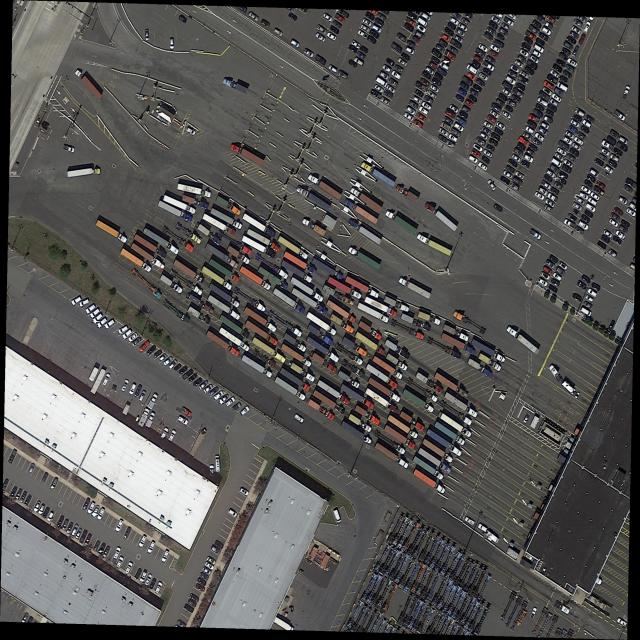large-vehicle: (547, 361, 582, 402), (290, 286, 330, 318), (423, 200, 460, 234), (141, 226, 181, 257), (294, 183, 333, 214), (505, 323, 541, 356), (250, 335, 288, 366), (306, 171, 344, 202), (129, 241, 167, 272), (416, 446, 454, 476), (442, 390, 480, 420), (425, 428, 463, 458), (342, 196, 380, 226), (289, 275, 326, 305), (433, 371, 470, 401), (359, 160, 397, 189), (349, 184, 384, 215), (72, 66, 103, 101), (305, 335, 341, 365), (437, 410, 473, 440), (242, 305, 279, 334), (374, 441, 411, 470), (205, 329, 242, 358), (339, 382, 376, 411), (245, 227, 283, 255), (346, 218, 384, 246), (244, 319, 280, 348), (311, 388, 347, 417), (206, 294, 242, 323), (204, 242, 240, 271), (364, 386, 400, 415), (315, 379, 352, 407), (228, 141, 266, 168), (439, 330, 477, 357), (131, 268, 163, 300), (272, 286, 307, 315), (172, 257, 207, 286), (238, 264, 273, 293), (326, 275, 363, 302), (470, 338, 507, 365), (415, 231, 453, 257), (343, 274, 381, 300), (119, 246, 153, 275), (200, 264, 234, 293), (169, 268, 203, 297), (279, 258, 314, 286), (411, 455, 446, 483), (412, 468, 447, 496), (273, 375, 308, 403), (279, 341, 314, 369), (217, 326, 252, 354), (365, 363, 400, 391), (367, 376, 402, 404), (384, 208, 419, 236), (282, 250, 318, 277), (133, 233, 169, 260), (241, 212, 277, 239), (202, 212, 238, 239), (347, 245, 383, 272), (267, 310, 303, 337), (383, 423, 417, 451), (256, 264, 290, 292), (276, 234, 310, 262), (208, 282, 242, 310), (157, 199, 195, 224), (310, 256, 345, 283), (94, 218, 129, 245), (254, 253, 289, 280), (241, 234, 277, 260), (305, 310, 338, 338), (421, 437, 454, 465), (278, 366, 312, 393), (218, 313, 252, 340), (207, 257, 241, 284), (402, 388, 436, 415), (371, 354, 405, 381), (386, 413, 420, 440), (161, 226, 195, 253), (232, 286, 266, 313), (339, 420, 374, 446), (209, 206, 244, 232), (217, 230, 252, 256), (397, 276, 433, 301), (354, 330, 386, 358), (433, 420, 466, 447), (240, 354, 274, 380), (439, 400, 473, 426), (452, 310, 487, 335), (325, 299, 358, 325), (193, 220, 223, 248), (414, 370, 446, 396), (374, 430, 406, 456), (363, 295, 399, 318), (162, 193, 197, 216), (356, 302, 391, 325), (305, 397, 337, 422), (406, 378, 438, 403), (286, 359, 317, 384), (308, 350, 339, 375), (185, 291, 216, 316), (427, 337, 462, 359), (390, 319, 425, 341), (214, 192, 243, 218), (399, 312, 433, 334), (322, 284, 354, 307), (176, 181, 214, 200), (306, 323, 335, 347), (328, 312, 357, 336), (341, 335, 370, 359), (383, 337, 412, 361), (334, 343, 364, 366), (466, 356, 494, 380), (163, 300, 191, 324), (353, 404, 382, 427), (398, 410, 427, 433), (174, 222, 203, 245), (158, 272, 185, 296), (282, 331, 308, 355), (225, 244, 252, 267), (357, 319, 384, 342), (394, 182, 421, 205), (476, 351, 504, 373), (441, 323, 471, 343), (381, 294, 411, 314), (336, 368, 362, 391), (186, 304, 213, 326), (347, 412, 374, 434), (300, 217, 328, 238), (221, 76, 250, 96), (180, 193, 210, 211), (385, 352, 410, 372), (341, 359, 366, 379), (252, 349, 276, 369), (415, 310, 442, 327), (66, 167, 102, 179), (517, 135, 531, 149), (549, 156, 563, 169), (449, 37, 463, 50), (375, 76, 388, 89), (466, 63, 479, 76), (578, 219, 590, 232), (563, 217, 576, 229), (557, 140, 570, 152), (580, 306, 593, 318), (417, 16, 429, 28), (557, 81, 569, 93), (333, 508, 342, 524), (591, 575, 603, 585), (214, 455, 221, 472), (294, 414, 304, 424)
small-vehicle: (137, 407, 151, 428), (144, 411, 156, 429), (146, 392, 158, 410), (538, 89, 552, 103), (482, 59, 496, 73), (592, 184, 606, 198), (601, 138, 615, 152), (615, 140, 629, 154), (138, 339, 151, 354), (613, 108, 626, 123), (390, 41, 404, 54), (527, 112, 541, 125), (532, 42, 546, 55), (489, 102, 503, 115), (512, 86, 525, 100), (517, 74, 531, 87), (524, 29, 538, 42), (529, 228, 543, 241), (444, 107, 457, 121), (444, 48, 457, 62), (7, 449, 18, 465), (101, 372, 112, 388), (181, 368, 194, 381), (88, 307, 101, 320), (536, 95, 549, 108), (533, 130, 546, 143), (523, 64, 536, 77), (526, 59, 539, 72), (504, 74, 517, 87), (503, 15, 516, 28), (415, 80, 428, 93), (248, 10, 260, 24), (546, 72, 558, 86), (122, 525, 133, 540), (114, 518, 125, 533), (133, 383, 143, 399), (371, 22, 383, 35), (356, 28, 369, 40), (84, 303, 97, 315), (78, 297, 91, 309), (70, 295, 83, 307), (532, 107, 544, 120), (555, 56, 567, 69), (506, 97, 518, 110), (528, 53, 541, 65), (461, 75, 474, 87), (475, 46, 487, 59), (539, 269, 551, 282), (455, 115, 467, 128), (421, 68, 433, 81), (557, 259, 569, 272), (580, 184, 593, 196), (576, 279, 588, 292), (593, 156, 606, 168), (612, 146, 625, 158), (79, 529, 89, 544), (146, 540, 156, 555), (96, 507, 106, 522), (120, 378, 130, 393), (218, 393, 230, 405), (239, 405, 251, 417), (322, 11, 334, 23), (453, 121, 465, 133), (415, 22, 427, 34), (315, 54, 327, 66), (337, 69, 349, 81), (369, 28, 381, 40), (370, 88, 382, 100), (104, 318, 116, 330), (96, 317, 108, 329), (92, 313, 104, 325), (121, 328, 133, 340), (127, 331, 139, 343), (566, 34, 578, 46), (499, 174, 511, 186), (512, 175, 524, 187), (563, 40, 575, 52), (529, 24, 541, 36), (540, 25, 552, 37), (542, 85, 554, 97), (543, 78, 555, 90), (552, 62, 564, 74), (522, 152, 534, 164), (540, 179, 552, 191), (616, 616, 628, 628), (467, 153, 479, 165), (475, 135, 487, 147), (501, 109, 513, 121), (501, 79, 513, 91), (507, 68, 519, 80), (520, 41, 532, 53), (477, 160, 489, 172), (475, 76, 487, 88), (478, 71, 490, 83), (473, 52, 485, 64), (537, 276, 549, 288), (542, 265, 554, 277), (464, 515, 476, 527), (431, 47, 443, 59), (443, 25, 455, 37), (458, 21, 470, 33), (431, 76, 443, 88), (488, 19, 500, 31), (436, 66, 448, 78), (572, 200, 584, 212), (585, 202, 597, 214), (583, 178, 595, 190), (568, 147, 580, 159), (555, 146, 567, 158), (596, 239, 608, 251), (622, 84, 631, 100), (609, 152, 621, 164), (607, 158, 619, 170), (146, 344, 157, 357), (404, 16, 417, 27), (315, 31, 326, 44), (522, 131, 535, 142), (489, 108, 500, 121), (510, 93, 521, 106), (508, 63, 521, 74), (548, 252, 559, 265), (478, 41, 489, 54), (493, 38, 506, 49), (550, 276, 561, 289), (580, 212, 591, 225), (567, 211, 578, 224), (584, 207, 595, 220), (548, 282, 559, 295), (70, 523, 80, 537), (56, 514, 66, 528), (137, 535, 147, 549), (154, 581, 164, 595), (160, 550, 170, 564), (115, 555, 125, 569), (112, 546, 122, 560), (86, 501, 96, 515), (62, 144, 76, 154), (49, 477, 59, 491), (144, 572, 153, 587), (91, 504, 100, 519), (334, 12, 345, 24), (181, 406, 192, 418), (177, 415, 189, 426), (163, 355, 174, 367), (225, 395, 236, 407), (195, 582, 206, 594), (316, 24, 328, 35), (391, 69, 403, 80), (408, 99, 420, 110), (421, 101, 433, 112), (440, 120, 451, 132), (448, 132, 459, 144), (403, 110, 415, 121), (383, 88, 395, 99), (385, 84, 397, 95), (373, 83, 385, 94), (366, 34, 377, 46), (414, 29, 425, 41), (527, 118, 538, 130), (513, 146, 524, 158), (507, 158, 519, 169), (506, 163, 517, 175), (544, 20, 555, 32), (531, 19, 543, 30), (549, 67, 560, 79), (515, 169, 526, 181), (534, 190, 546, 201), (532, 137, 543, 149), (554, 86, 565, 98), (535, 36, 546, 48), (471, 147, 482, 159), (472, 142, 484, 153), (479, 130, 490, 142), (482, 119, 494, 130), (486, 113, 497, 125), (493, 126, 505, 137), (496, 120, 507, 132), (490, 131, 501, 143), (485, 142, 496, 154), (513, 59, 525, 70), (498, 91, 509, 103), (501, 87, 513, 98), (523, 35, 535, 46), (553, 180, 565, 191), (468, 92, 479, 104), (469, 86, 480, 98), (459, 80, 470, 92), (471, 58, 482, 70), (477, 521, 488, 533), (545, 258, 556, 270), (493, 202, 504, 214), (488, 48, 500, 59), (438, 36, 449, 48), (490, 14, 502, 25), (424, 65, 436, 76), (428, 59, 439, 71), (552, 271, 563, 283), (578, 191, 590, 202), (589, 191, 601, 202), (572, 112, 583, 124), (561, 163, 572, 175), (563, 157, 574, 169), (554, 151, 565, 163), (566, 152, 577, 164), (571, 141, 583, 152), (569, 118, 581, 129), (564, 129, 575, 141), (574, 135, 585, 147), (612, 234, 623, 246), (615, 229, 626, 241), (623, 182, 634, 194), (583, 299, 594, 311), (591, 281, 602, 293), (599, 147, 611, 158), (606, 135, 617, 147), (26, 462, 36, 475), (486, 178, 496, 191), (168, 429, 177, 443), (138, 389, 147, 403), (128, 382, 137, 396), (571, 44, 580, 58), (607, 319, 616, 333), (206, 555, 217, 566), (261, 18, 272, 29), (213, 390, 224, 401), (203, 383, 214, 394), (192, 377, 203, 388), (198, 379, 209, 390), (202, 565, 213, 576), (196, 576, 207, 587), (189, 592, 200, 603), (184, 603, 195, 614), (449, 103, 460, 114), (427, 89, 438, 100), (443, 115, 454, 126), (450, 127, 461, 138), (379, 70, 390, 81), (397, 32, 408, 43), (421, 12, 432, 23), (404, 22, 415, 33), (405, 45, 416, 56), (400, 51, 411, 62), (397, 56, 408, 67), (437, 133, 448, 144), (362, 17, 373, 28), (377, 11, 388, 22), (303, 48, 314, 59), (329, 24, 340, 35), (326, 31, 337, 42), (332, 19, 343, 30), (360, 23, 371, 34), (413, 118, 424, 129), (353, 56, 364, 67), (347, 43, 358, 54), (350, 39, 361, 50), (118, 325, 129, 336), (131, 336, 142, 347), (449, 16, 460, 27), (525, 124, 536, 135), (516, 141, 527, 152), (502, 169, 513, 180), (509, 181, 520, 192), (561, 46, 572, 57), (535, 102, 546, 113), (520, 158, 531, 169), (545, 168, 556, 179), (545, 198, 556, 209), (547, 192, 558, 203), (567, 57, 578, 68), (538, 126, 549, 137), (547, 103, 558, 114), (551, 93, 562, 104), (562, 69, 573, 80), (481, 126, 492, 137), (504, 103, 515, 114), (515, 81, 526, 92), (488, 137, 499, 148), (519, 69, 530, 80), (495, 97, 506, 108), (483, 148, 494, 159), (518, 47, 529, 58), (557, 175, 568, 186), (558, 170, 569, 181), (472, 82, 483, 93), (485, 54, 496, 65), (464, 98, 475, 109), (489, 43, 500, 54), (441, 54, 452, 65), (435, 43, 446, 54), (455, 27, 466, 38), (439, 60, 450, 71), (483, 31, 494, 42), (486, 26, 497, 37), (419, 76, 430, 87), (574, 107, 585, 118), (574, 224, 585, 235), (581, 119, 592, 130), (575, 196, 586, 207), (562, 135, 573, 146), (576, 130, 587, 141), (580, 124, 591, 135), (572, 292, 583, 303), (580, 274, 591, 285), (600, 234, 611, 245), (586, 173, 597, 184), (609, 128, 620, 139), (168, 358, 178, 370), (338, 9, 350, 19), (550, 163, 560, 175), (537, 186, 549, 196), (544, 108, 556, 118), (548, 98, 560, 108), (531, 49, 543, 59), (481, 154, 491, 166), (455, 92, 465, 104), (449, 44, 459, 56), (499, 26, 509, 38), (589, 167, 599, 179), (160, 427, 169, 440), (61, 518, 70, 531), (41, 506, 50, 519), (33, 500, 42, 513), (19, 490, 28, 503), (15, 487, 24, 500), (84, 533, 93, 546), (139, 570, 148, 583), (98, 542, 107, 555), (82, 498, 91, 511), (583, 20, 592, 33), (578, 33, 587, 46), (239, 486, 249, 497), (228, 508, 239, 518), (204, 561, 215, 571), (287, 12, 298, 22), (232, 401, 242, 412), (209, 386, 219, 397), (188, 372, 198, 383), (199, 571, 210, 581), (406, 105, 417, 115), (412, 94, 422, 105), (429, 84, 440, 94), (424, 94, 434, 105), (418, 106, 429, 116), (417, 112, 427, 123), (389, 77, 399, 88), (374, 17, 385, 27), (328, 63, 338, 74), (290, 38, 300, 49), (438, 127, 449, 137), (380, 96, 391, 106), (348, 58, 358, 69), (539, 31, 549, 42), (511, 153, 522, 163), (558, 51, 568, 62), (535, 15, 546, 25), (569, 30, 580, 40), (571, 25, 582, 35), (543, 174, 554, 184), (528, 142, 538, 153), (540, 121, 551, 131), (565, 63, 576, 73), (559, 74, 569, 85), (460, 16, 471, 26), (516, 54, 527, 64), (482, 66, 492, 77), (462, 104, 472, 115), (459, 109, 469, 120), (454, 33, 464, 44), (496, 31, 506, 42), (434, 71, 444, 82), (587, 197, 598, 207), (585, 114, 595, 125), (568, 124, 579, 134), (603, 228, 613, 239), (584, 294, 595, 304), (587, 288, 598, 298), (596, 180, 606, 191), (604, 164, 615, 174), (598, 152, 608, 163), (618, 136, 629, 146), (24, 494, 33, 506), (134, 568, 143, 580), (93, 540, 102, 552), (102, 545, 111, 557), (526, 145, 535, 157), (38, 503, 46, 516), (66, 521, 74, 534), (75, 527, 83, 540), (149, 576, 157, 589), (530, 606, 538, 619), (614, 206, 624, 216), (153, 348, 163, 358), (214, 539, 224, 549), (211, 545, 221, 555), (178, 365, 188, 375), (408, 11, 418, 21), (446, 139, 456, 149), (365, 11, 375, 21), (273, 28, 283, 38), (406, 39, 416, 49), (573, 18, 583, 28), (458, 87, 468, 97), (431, 55, 441, 65), (441, 33, 451, 43), (447, 21, 457, 31), (543, 115, 554, 124), (169, 37, 176, 51), (10, 485, 18, 497), (158, 352, 167, 362), (188, 598, 197, 608), (382, 64, 392, 73), (394, 64, 404, 73), (385, 58, 395, 67), (186, 127, 196, 136), (619, 225, 629, 234), (551, 186, 560, 196), (467, 71, 476, 81), (415, 89, 425, 98), (501, 21, 510, 31), (608, 247, 617, 257), (47, 511, 55, 522), (41, 472, 49, 483), (173, 363, 182, 372), (357, 51, 366, 60), (360, 45, 369, 54), (621, 219, 630, 228), (544, 204, 553, 213), (546, 15, 555, 24), (572, 208, 581, 217), (523, 414, 531, 424), (209, 465, 214, 478), (145, 29, 150, 42)
